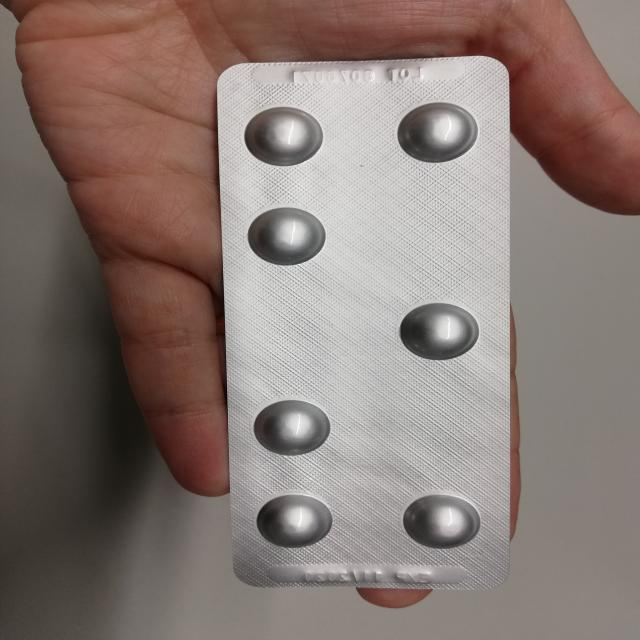Pill: (391, 99, 481, 166), (394, 298, 485, 364), (238, 103, 327, 169), (244, 204, 330, 269), (250, 397, 334, 458), (252, 489, 337, 549), (399, 492, 484, 551)
